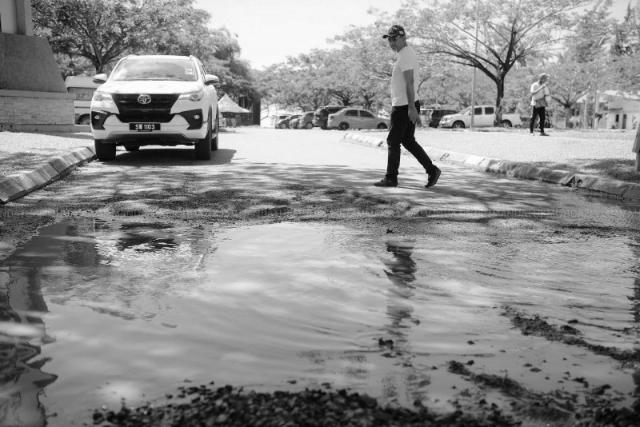Pothole: (1, 215, 637, 427)
